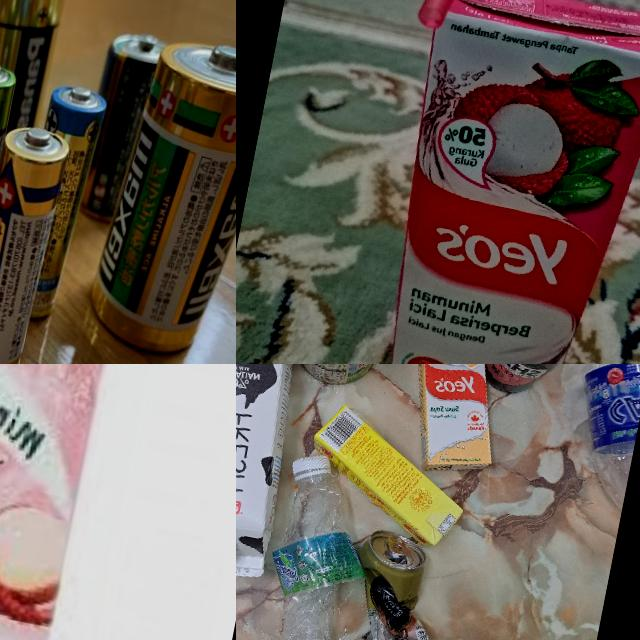bateria: (74, 22, 236, 364), (0, 77, 112, 336), (66, 26, 172, 232), (0, 117, 74, 364), (0, 0, 73, 208), (0, 53, 23, 300)
caixinha: (365, 0, 640, 364), (0, 364, 145, 640), (302, 407, 468, 549), (236, 364, 318, 591), (392, 364, 515, 482)
garrafa de vidro: (473, 364, 631, 416)
garrafa plástica: (253, 470, 380, 640), (519, 364, 640, 542)
lata: (282, 364, 398, 392)
tampa plástica: (286, 452, 329, 484)
